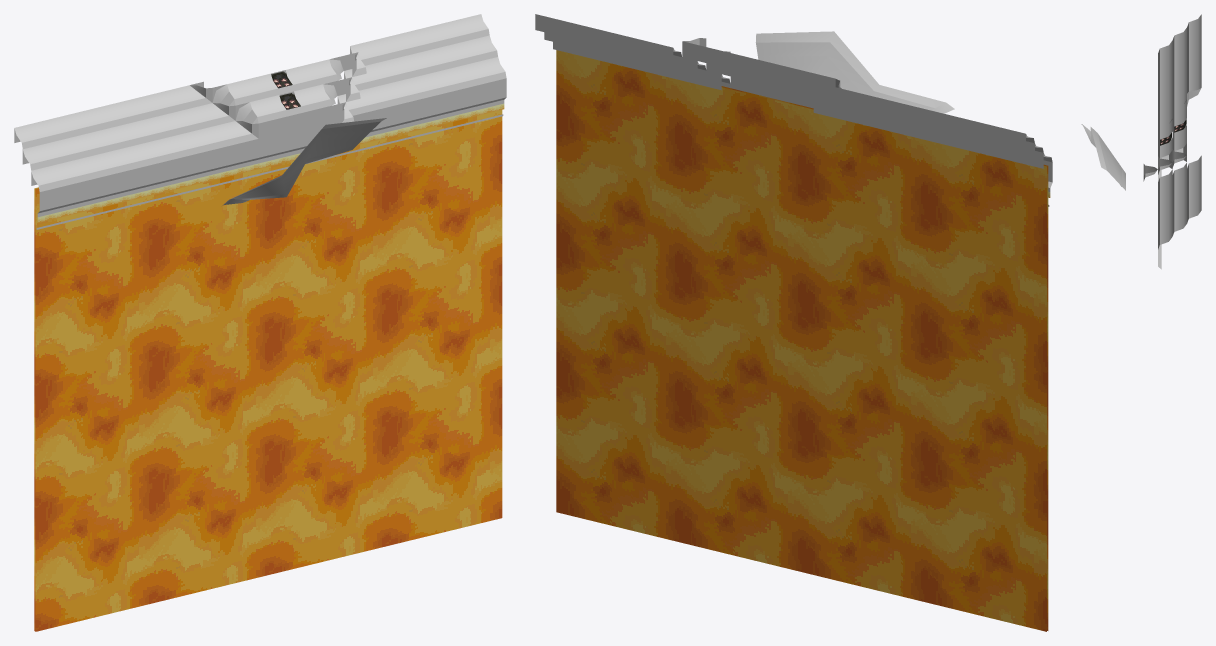
File: Mount-Undara-1_03_04.obj
3 renders of one model, left to right at view 1: azimuth 30°, elevation 25°; view 2: azimuth 150°, elevation 25°; view 3: azimuth 270°, elevation 25°, orthographic. The views are drawn at different scales.
Visible parts, largest first — view 1: map; view 2: map; view 3: map.
Boxes of the visible parts, <box> form: map: <box>14,14,506,631</box>; map: <box>535,14,1052,631</box>; map: <box>1081,14,1201,269</box>.
Bounding box in the file's own units: 32 × 32 × 8.28.
